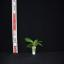leaf: (25, 38, 34, 45), (34, 41, 43, 45), (35, 43, 42, 47), (26, 44, 34, 47), (34, 40, 38, 45), (27, 46, 34, 48), (35, 45, 40, 47)
